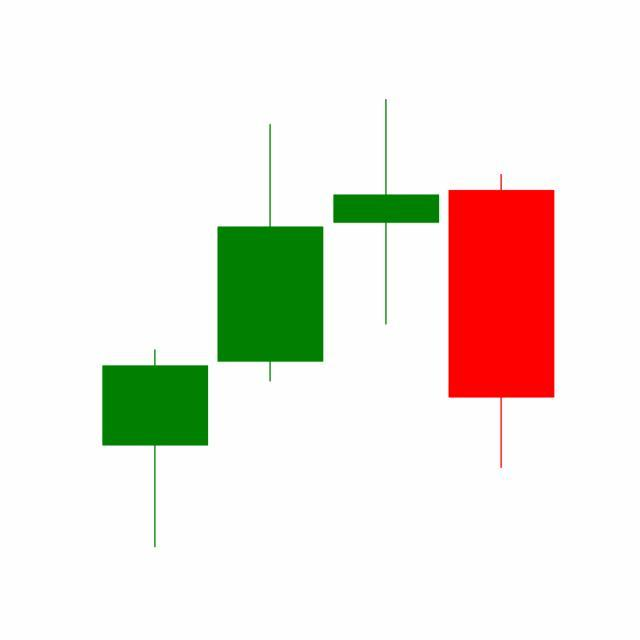Evening Star: (211, 100, 555, 474)
